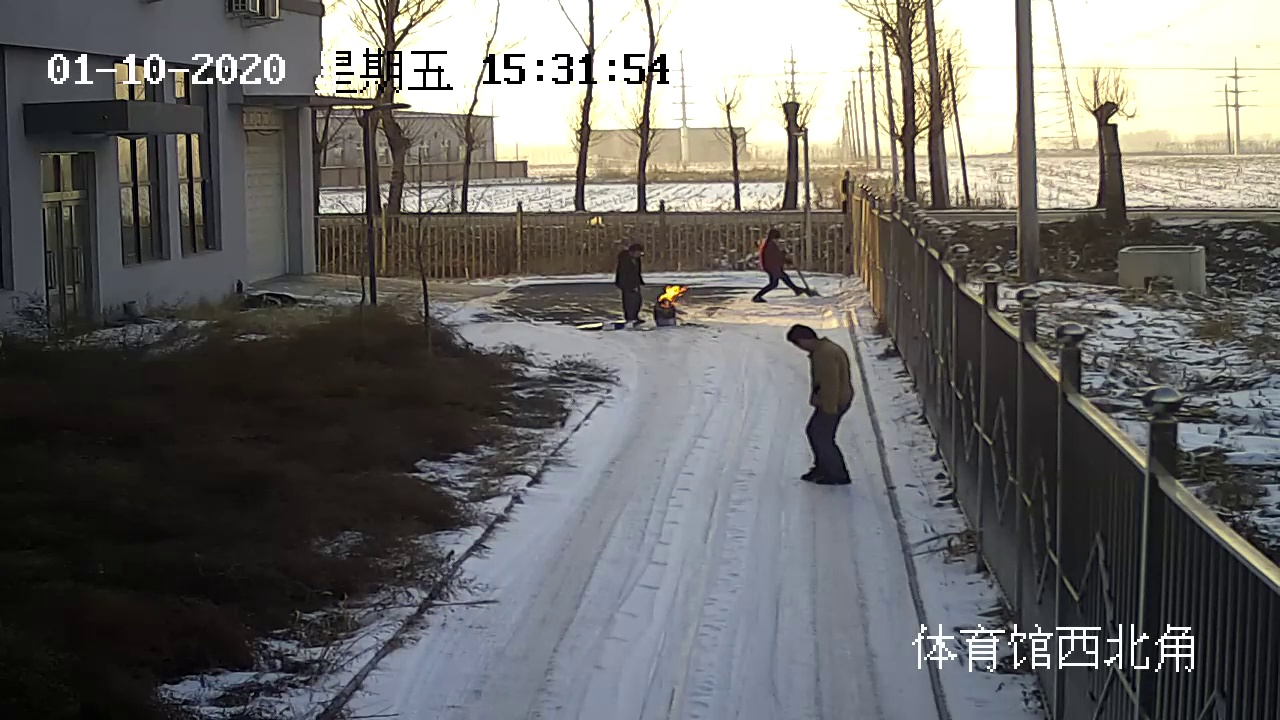fire: (658, 283, 688, 302)
